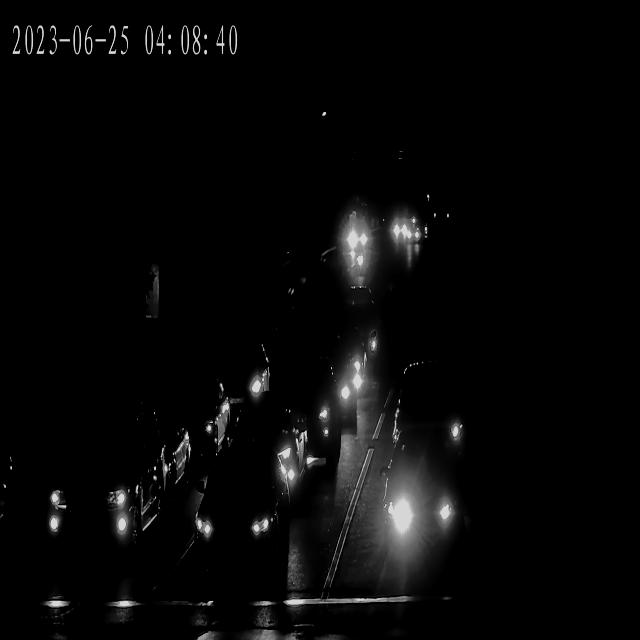Car: (12, 418, 162, 555), (188, 461, 286, 584), (144, 372, 238, 468), (389, 362, 472, 460), (283, 359, 347, 482), (377, 458, 463, 549), (302, 331, 366, 428), (243, 398, 305, 484), (194, 339, 269, 405), (341, 301, 385, 375), (341, 224, 372, 251), (389, 224, 413, 242), (398, 230, 422, 246), (388, 222, 408, 238)
